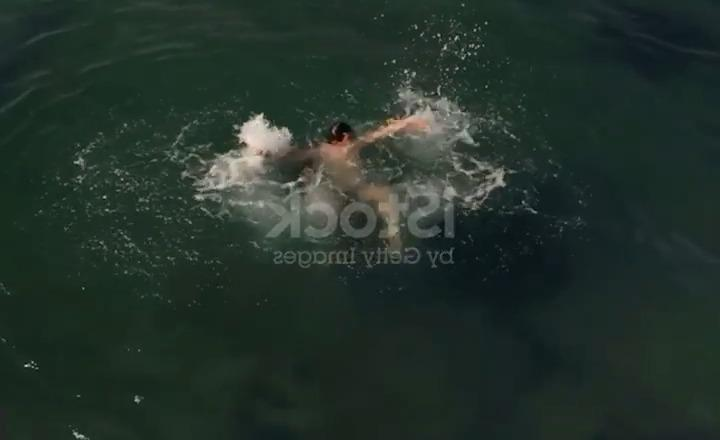Drowning: (215, 37, 501, 253)
